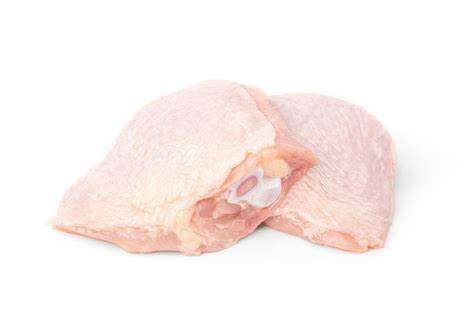Chicken: (37, 76, 316, 263), (230, 88, 402, 256)
